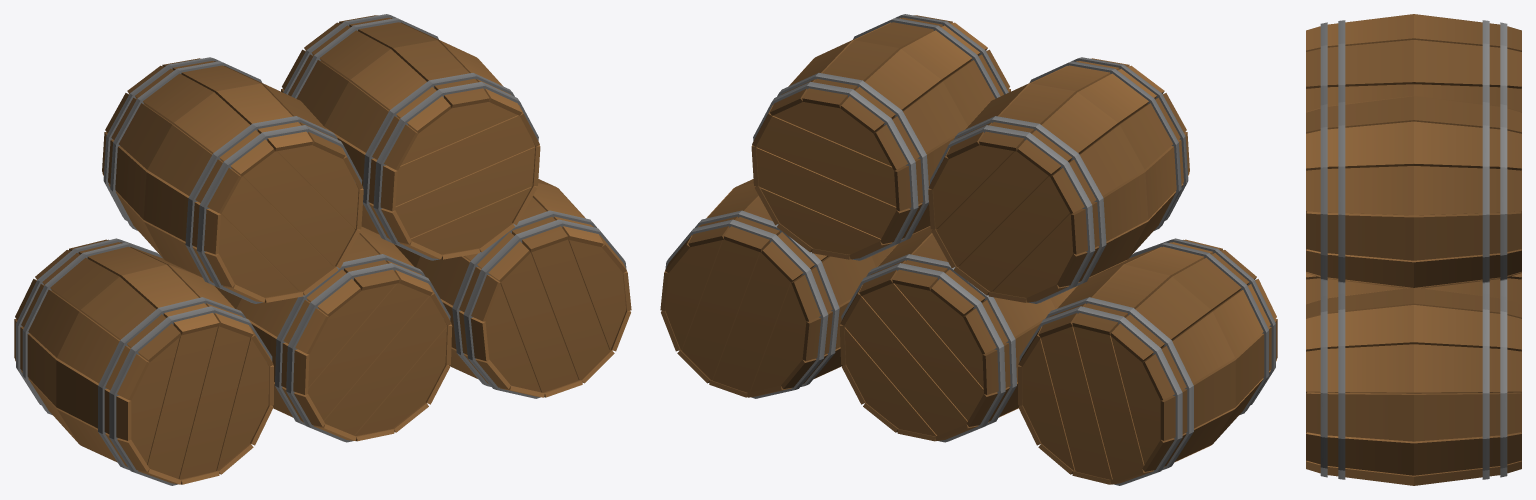
The model's file is Prop_Barrel_Pile_01.obj.
The picture shows the model from 3 angles, left to right: view 1: azimuth 30°, elevation 25°; view 2: azimuth 150°, elevation 25°; view 3: azimuth 270°, elevation 25°; orthographic projection. The views are drawn at different scales.
Visible parts, largest first — view 1: Prop_Barrel_Pile_01; view 2: Prop_Barrel_Pile_01; view 3: Prop_Barrel_Pile_01.
Boxes of the visible parts, x1,y1,x2,y2 form: Prop_Barrel_Pile_01: [14, 14, 631, 485]; Prop_Barrel_Pile_01: [660, 14, 1277, 485]; Prop_Barrel_Pile_01: [1306, 14, 1521, 485].
Bounding box in the file's own units: 2.44 × 1.52 × 0.9.
1 material, 1 textured.
